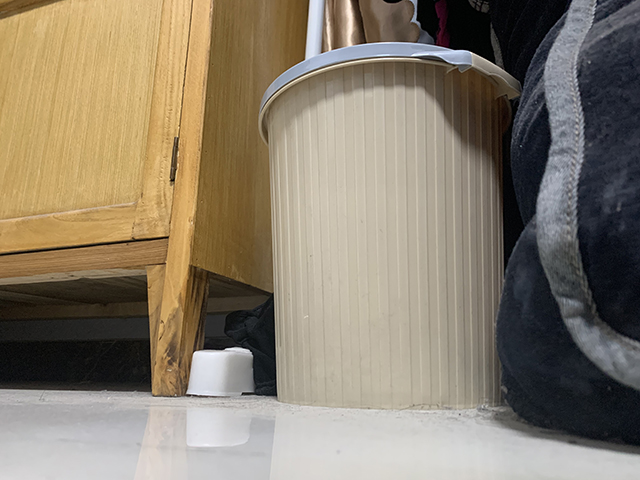cabinet: (1, 1, 309, 399)
trashcan: (257, 40, 524, 411)
